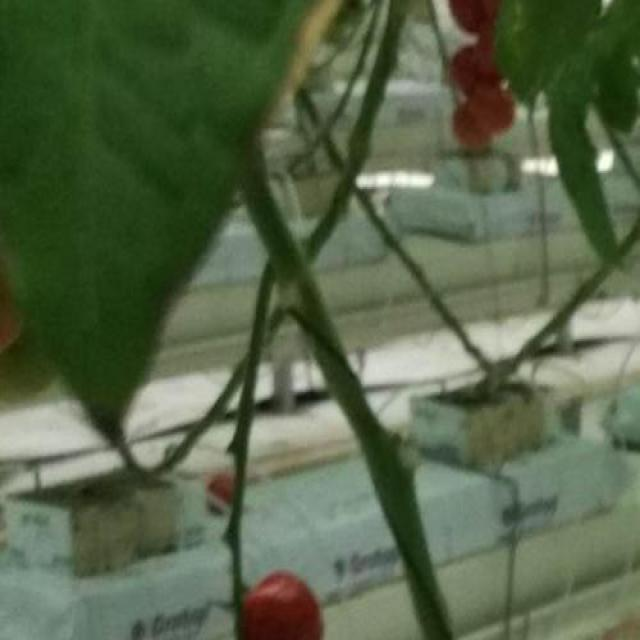tomato: (241, 570, 328, 640)
